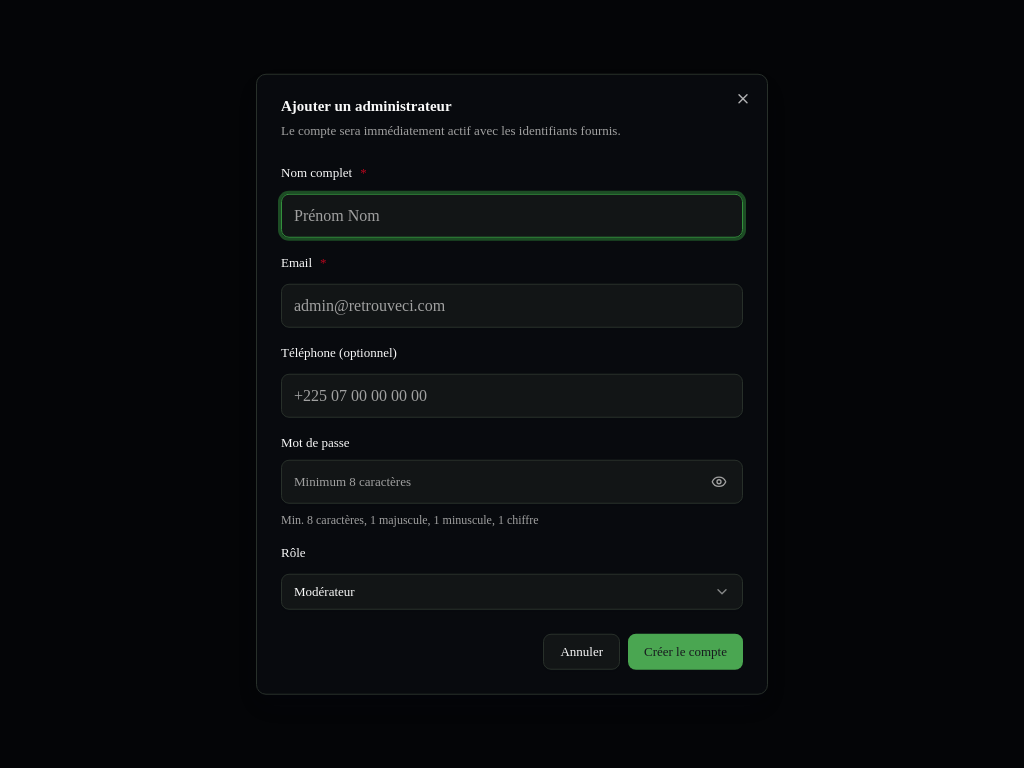
Test: AdminCreateDialog › lands a server-side field error on the field it belongs to
Type "Awa Koné" into the field labelled "Nom complet *".
click(512, 216); type("Awa Koné")  # box [281, 194, 743, 238]
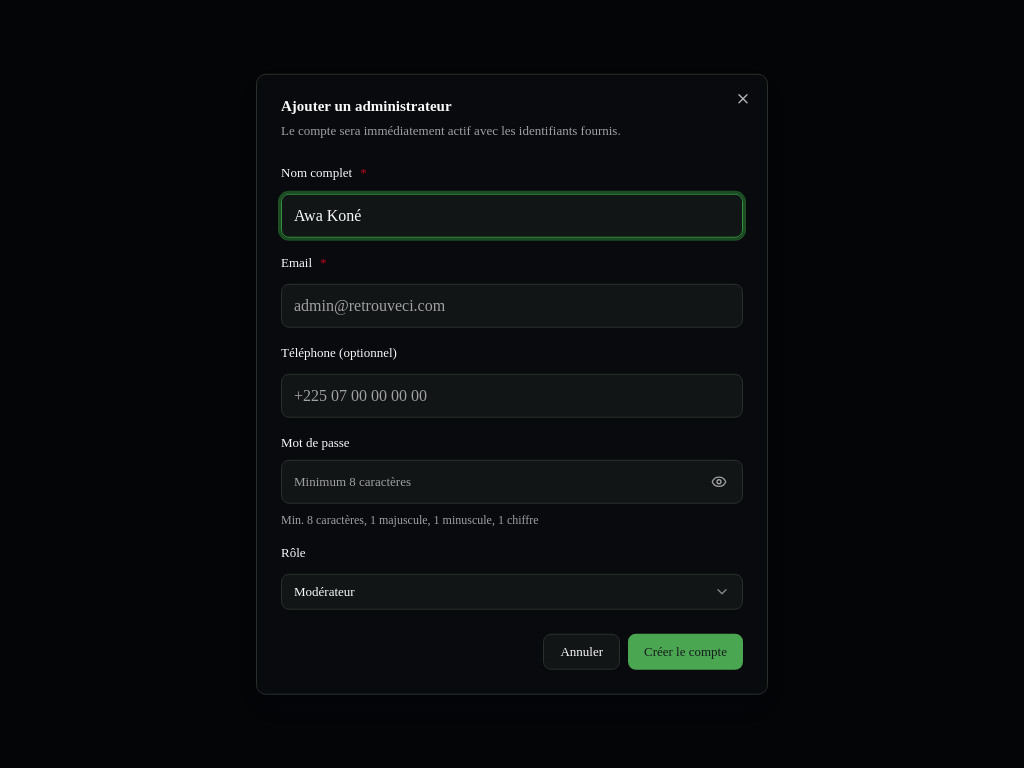
Type "awa@retrouveci.com" into the field labelled "Email *".
click(512, 306); type("awa@retrouveci.com")  # box [281, 284, 743, 328]
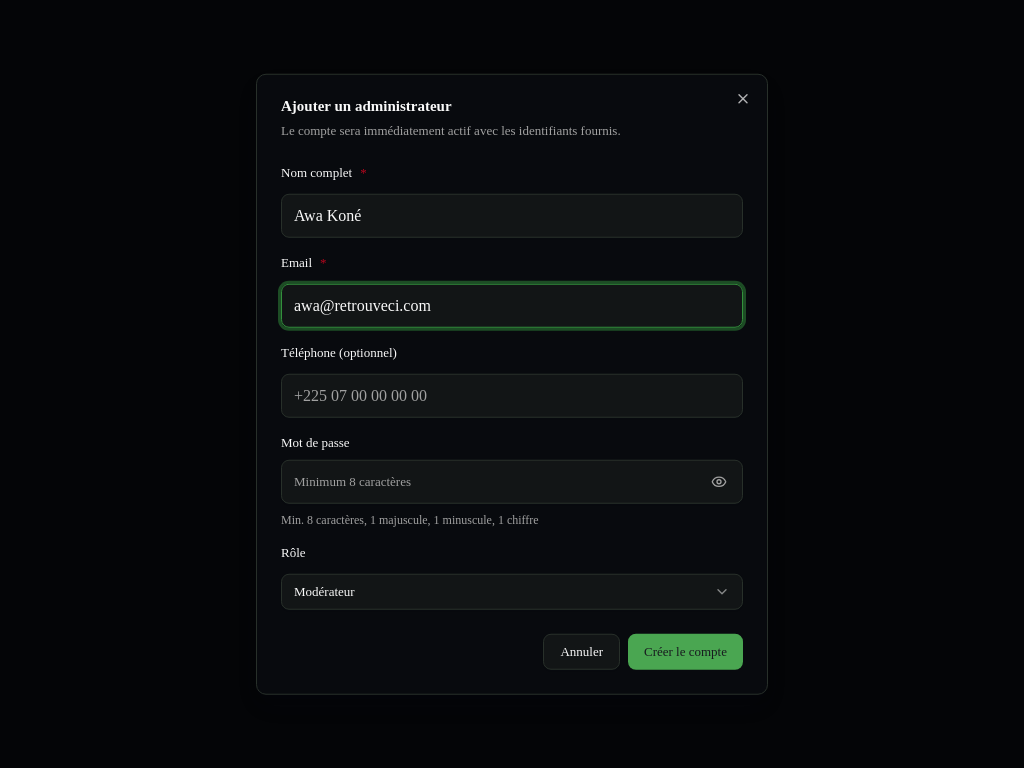
Type "Motdepasse1" into the password field labelled "Mot de passe".
click(512, 481); type("Motdepasse1")  # box [281, 459, 743, 503]
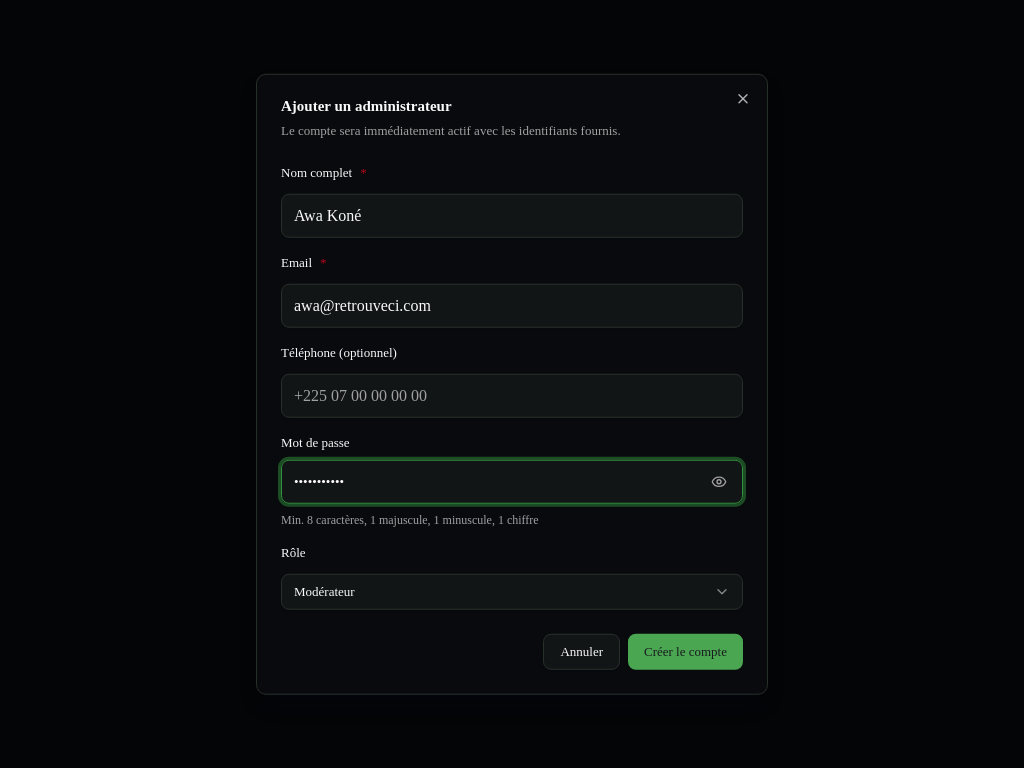
Click the button "Créer le compte".
click(686, 651)  # box [628, 633, 743, 669]
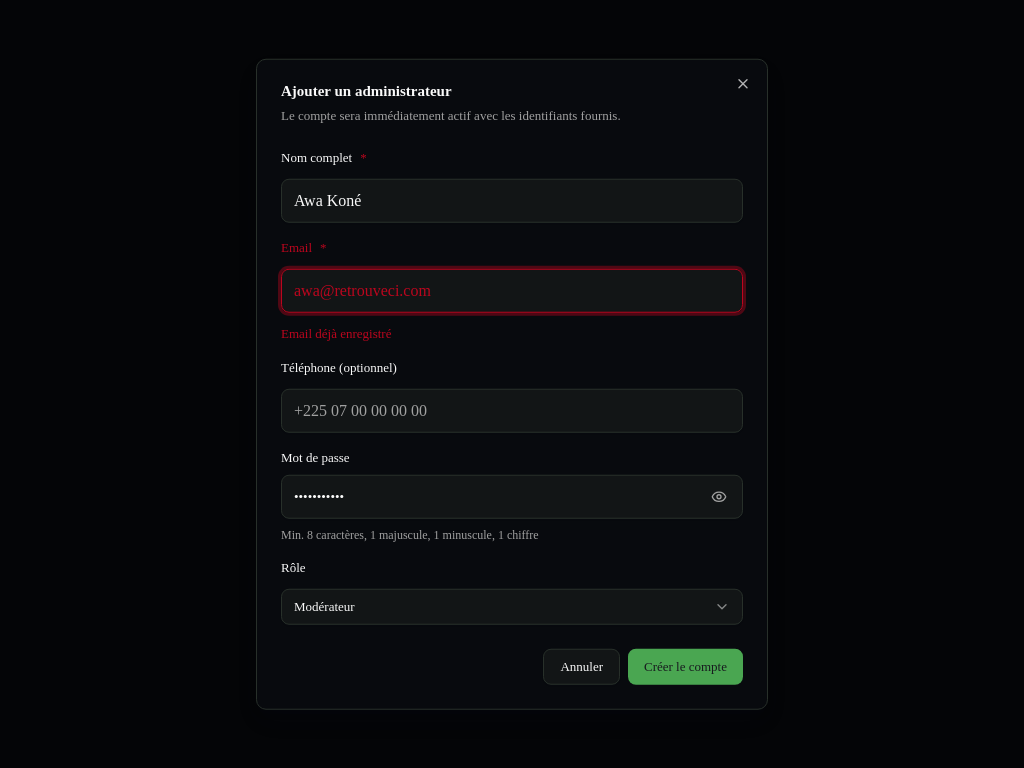
Expected: the text "Email déjà enregistré" is shown, [281, 326, 392, 340]
